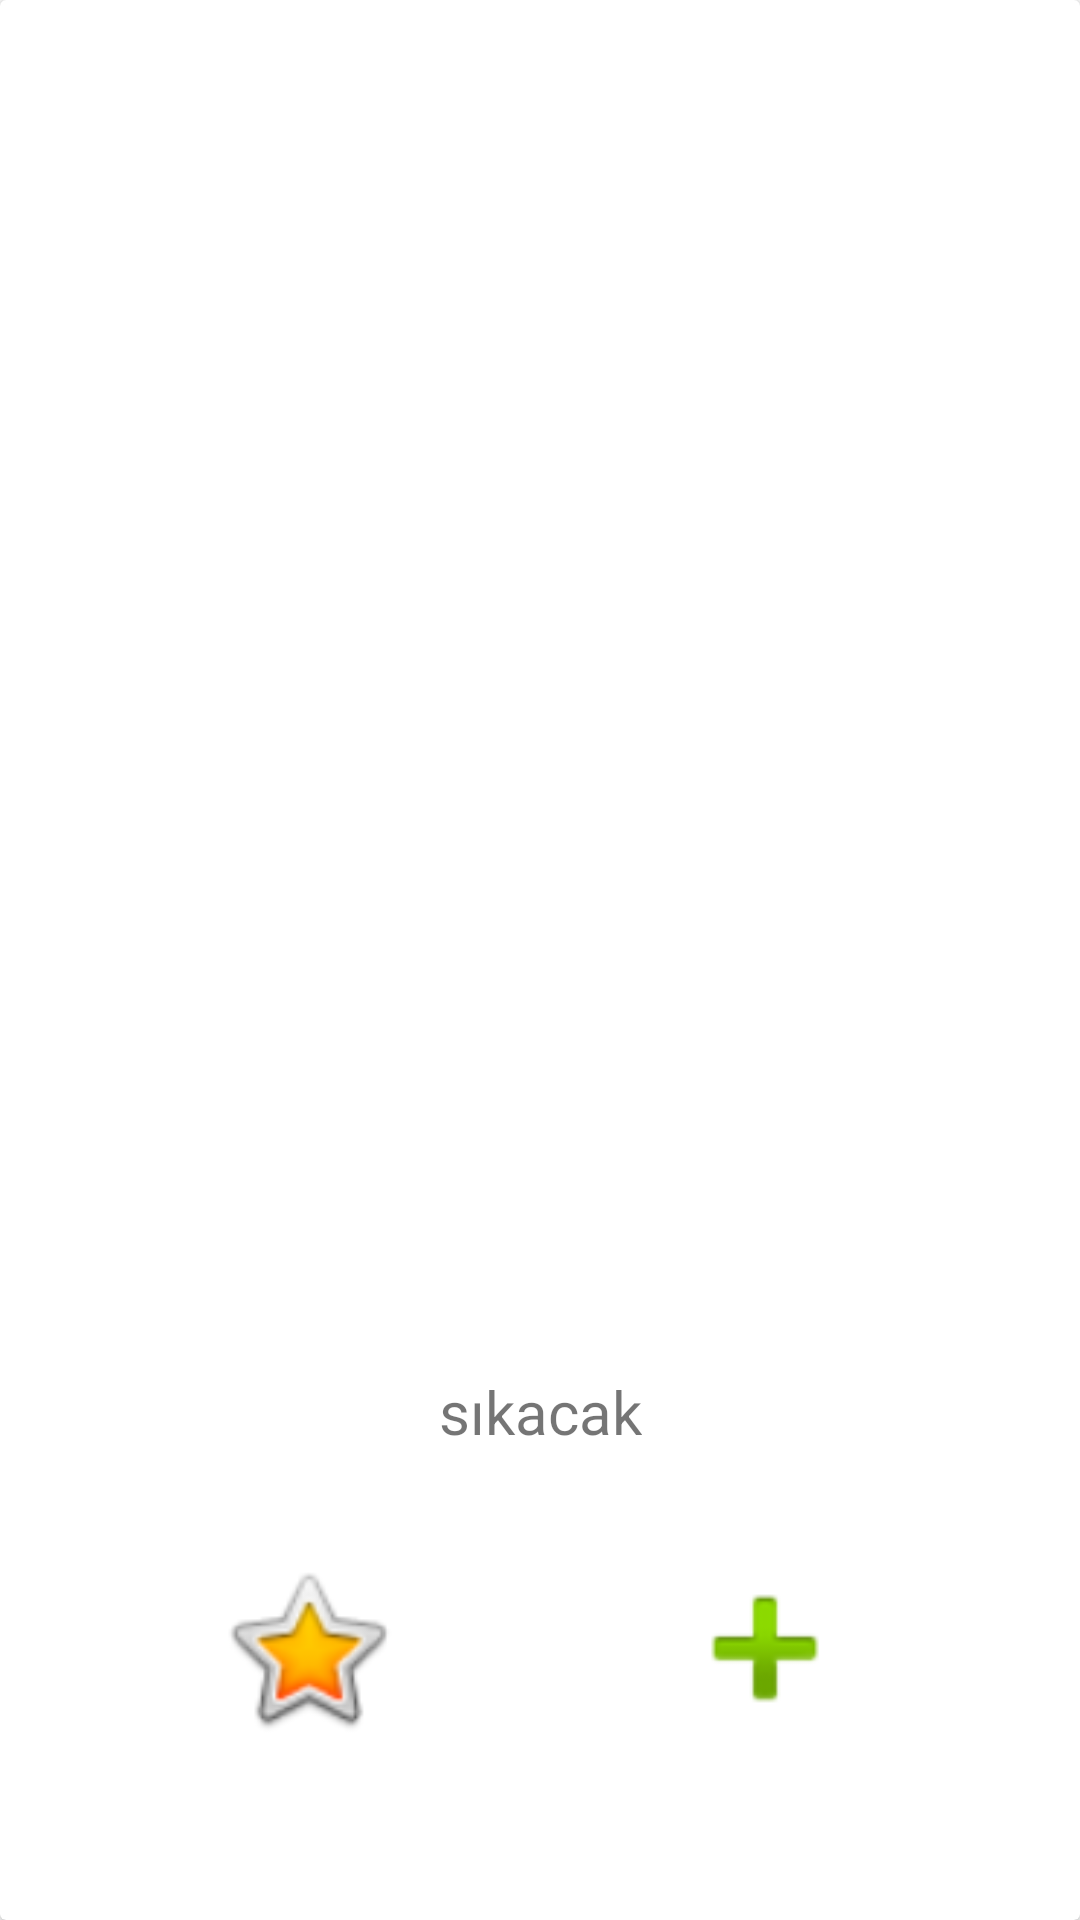

Screen size 1080×1920. Icon name, then its center in pixels as point (x, y):
add: point (765, 1648)
star on: point (309, 1650)
